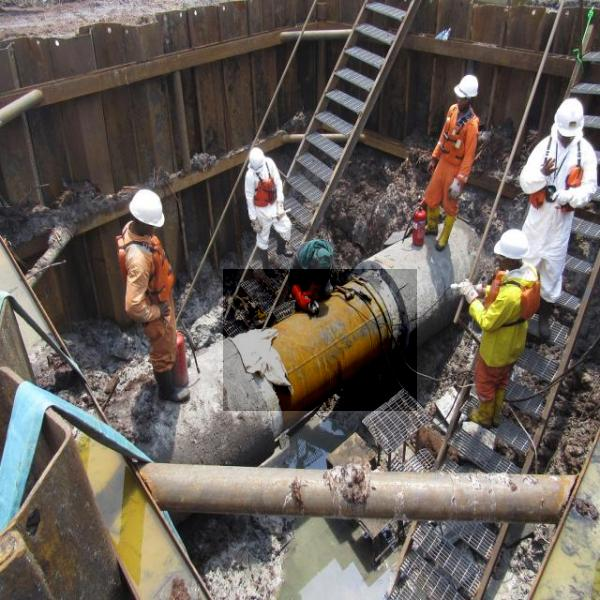crack: (223, 269, 417, 411)
